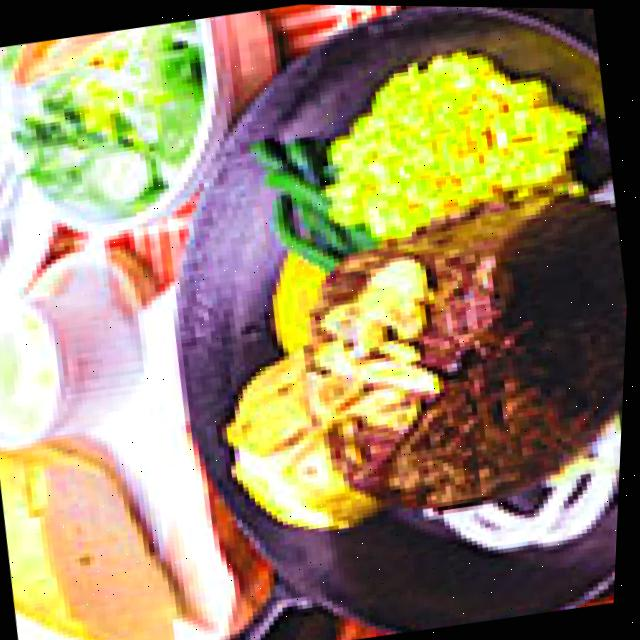牛肉菜式: (267, 185, 634, 538)
